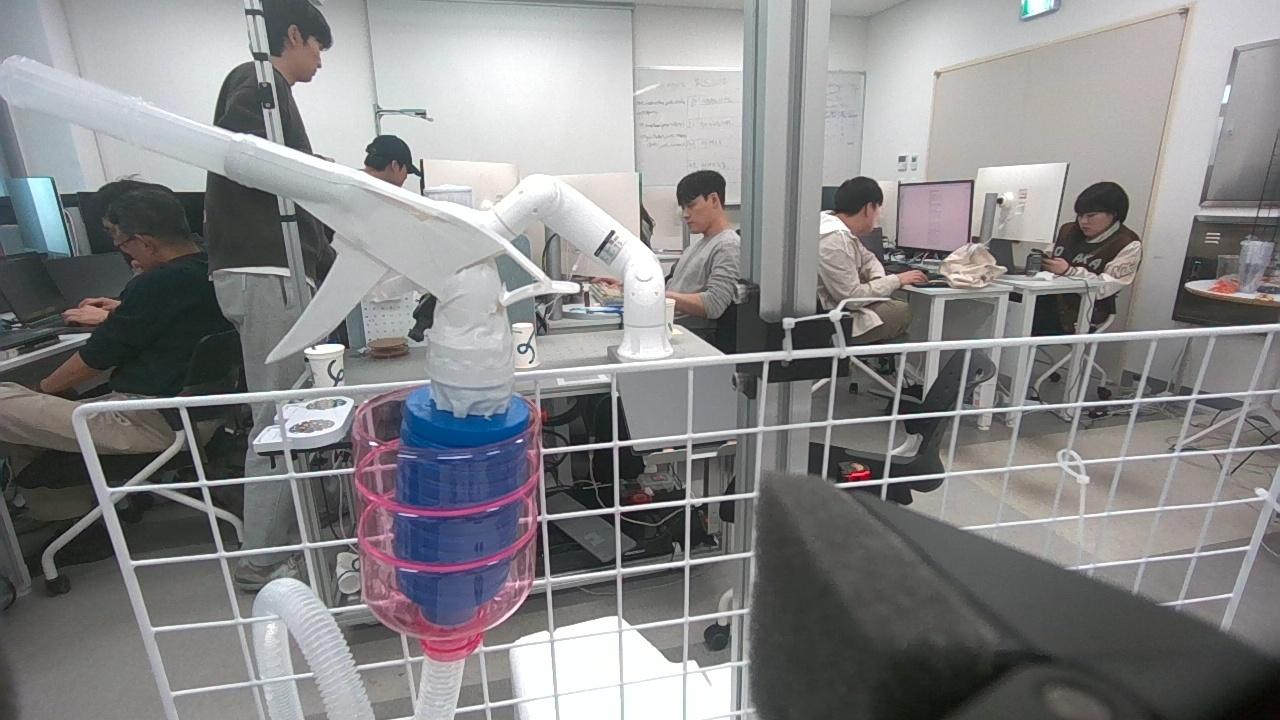Nozzle: (232, 129, 557, 602)
